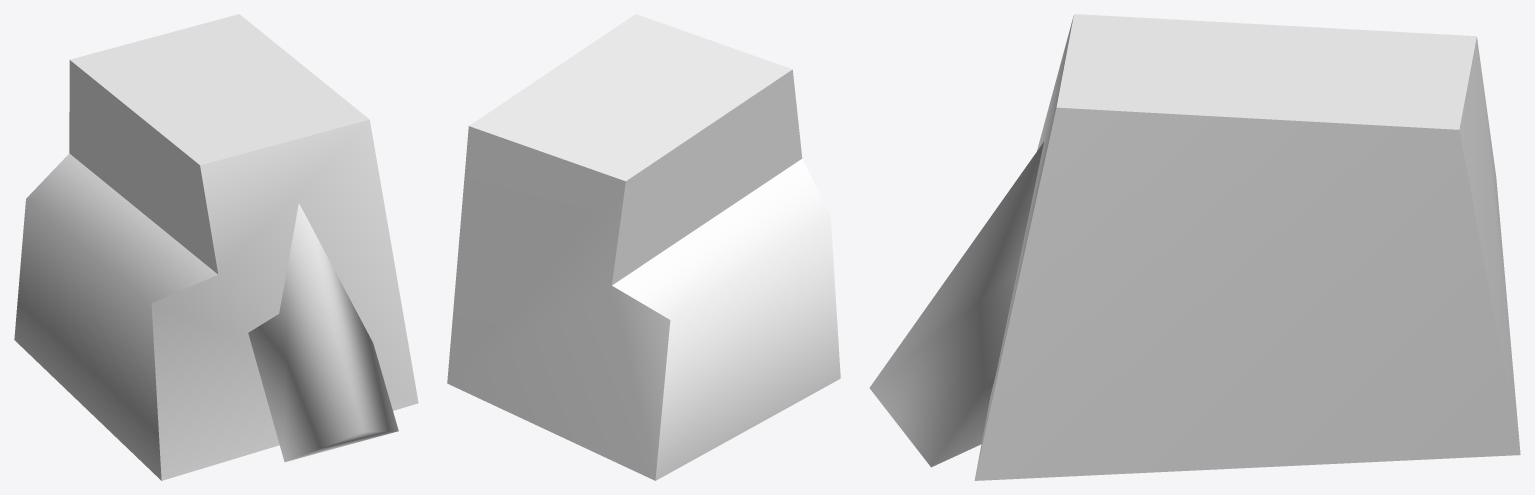
File: HandLeft.obj
3 views of the same model, side by side, from view 1: azimuth 30°, elevation 25°; view 2: azimuth 150°, elevation 25°; view 3: azimuth 270°, elevation 25° (orthographic). The views are drawn at different scales.
Size of the model in its own units: 0.7727 by 1.02 by 1.43.
Materials: 1 (1 with a texture image).
